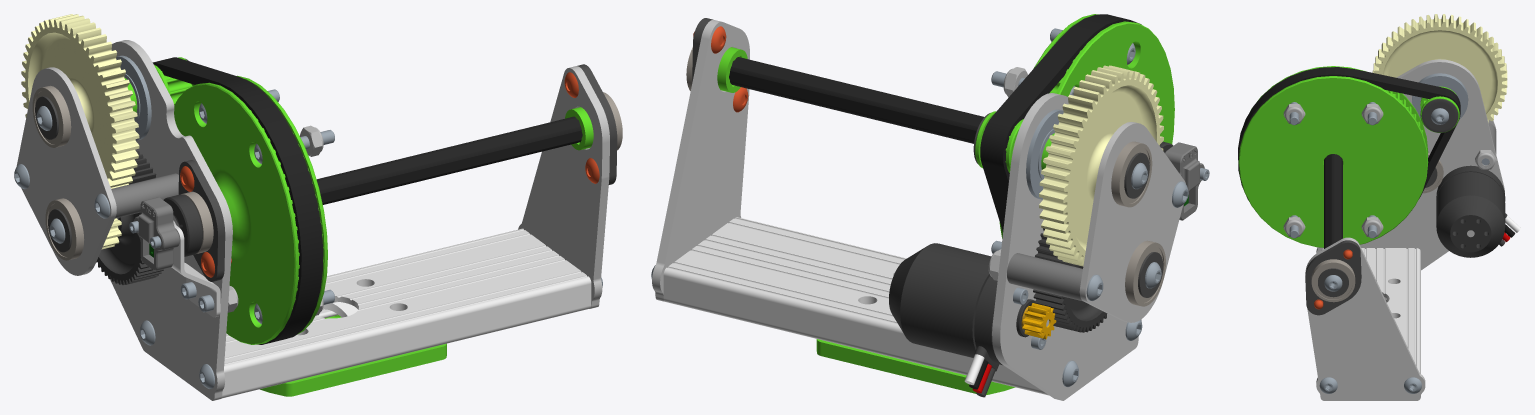
3 renders of one model, left to right at view 1: azimuth 30°, elevation 25°; view 2: azimuth 150°, elevation 25°; view 3: azimuth 270°, elevation 25°, orthographic. The views are drawn at different scales.
Parts seen in each view (by area): view 1: 321-2 Wrist 2 Baseplate Crossbar, 330 Wrist 2 Driven Pulley, 322 Wrist 2 Gearbox Plate, 326 Wrist 2 Pivot Support Plate, 52T Pocketed Aluminum Spur Gear (20 DP, 1/2" Hex Bore) (WCP-, 323 Wrist 2 Gearbox Cover Plate, 65 Tooth x 9mm HTD5 Belt, 329 Wrist 2 Thunderhex Shaft (7.105"), .375 ThunderHex ID .875 OD Flanged Bearing (217-5829) (×3), WCP-0487 Rev1 (×2), 321-1 Wrist 2 Baseplate Spacer, 60t 32dp Steel 3/8" Hex Bore Gear (217-5867) (+8 smaller); view 2: 321-2 Wrist 2 Baseplate Crossbar, 326 Wrist 2 Pivot Support Plate, 322 Wrist 2 Gearbox Plate, 52T Pocketed Aluminum Spur Gear (20 DP, 1/2" Hex Bore) (WCP-, NEO 550 Brushless Motor, 323 Wrist 2 Gearbox Cover Plate, 329 Wrist 2 Thunderhex Shaft (7.105"), 65 Tooth x 9mm HTD5 Belt, 330 Wrist 2 Driven Pulley, 321-1 Wrist 2 Baseplate Spacer, .375 ThunderHex ID .875 OD Flanged Bearing (217-5829) (×2), 324-0 Wrist 2 Gearbox PP Spacer (+7 smaller); view 3: 330 Wrist 2 Driven Pulley, 326 Wrist 2 Pivot Support Plate, 322 Wrist 2 Gearbox Plate, 52T Pocketed Aluminum Spur Gear (20 DP, 1/2" Hex Bore) (WCP-, NEO 550 Brushless Motor, 321-2 Wrist 2 Baseplate Crossbar, 65 Tooth x 9mm HTD5 Belt, 329 Wrist 2 Thunderhex Shaft (7.105"), WCP-0487 Rev1, .375 ThunderHex ID .875 OD Flanged Bearing (217-5829) (×2), .375" Hex ID 1.125" OD Flanged Bearing (217-2735), 10-32 Thin Jam Nut (WCP-0326) (×3) (+3 smaller).
Part boxes in pixels (x1,y1,x2,y2): 321-2 Wrist 2 Baseplate Crossbar: (221, 228, 591, 398); 330 Wrist 2 Driven Pulley: (174, 75, 327, 344); 322 Wrist 2 Gearbox Plate: (110, 40, 232, 400); 326 Wrist 2 Pivot Support Plate: (518, 66, 609, 308); 52T Pocketed Aluminum Spur Gear (20 DP, 1/2" Hex Bore) (WCP-: (21, 14, 139, 188); 323 Wrist 2 Gearbox Cover Plate: (16, 67, 116, 275); 65 Tooth x 9mm HTD5 Belt: (152, 57, 323, 344); 329 Wrist 2 Thunderhex Shaft (7.105"): (173, 116, 582, 227); .375 ThunderHex ID .875 OD Flanged Bearing (217-5829) (×3): (32, 85, 213, 260); WCP-0487 Rev1 (×2): (178, 64, 617, 281); 321-1 Wrist 2 Baseplate Spacer: (260, 315, 446, 396); 60t 32dp Steel 3/8" Hex Bore Gear (217-5867): (96, 149, 163, 284); 321-2 Wrist 2 Baseplate Crossbar: (663, 217, 1048, 395); 326 Wrist 2 Pivot Support Plate: (652, 19, 749, 301); 322 Wrist 2 Gearbox Plate: (992, 93, 1141, 400); 52T Pocketed Aluminum Spur Gear (20 DP, 1/2" Hex Bore) (WCP-: (1039, 65, 1163, 266); NEO 550 Brushless Motor: (889, 243, 1049, 397); 323 Wrist 2 Gearbox Cover Plate: (1079, 122, 1185, 322); 329 Wrist 2 Thunderhex Shaft (7.105"): (729, 57, 984, 143); 65 Tooth x 9mm HTD5 Belt: (980, 14, 1141, 231); 330 Wrist 2 Driven Pulley: (999, 14, 1174, 238); 321-1 Wrist 2 Baseplate Spacer: (816, 339, 1015, 394); .375 ThunderHex ID .875 OD Flanged Bearing (217-5829) (×2): (1111, 141, 1165, 306); 324-0 Wrist 2 Gearbox PP Spacer: (1007, 253, 1082, 301); 330 Wrist 2 Driven Pulley: (1238, 66, 1428, 247); 326 Wrist 2 Pivot Support Plate: (1305, 237, 1425, 400); 322 Wrist 2 Gearbox Plate: (1316, 59, 1504, 270); 52T Pocketed Aluminum Spur Gear (20 DP, 1/2" Hex Bore) (WCP-: (1372, 14, 1507, 122); NEO 550 Brushless Motor: (1436, 165, 1520, 257); 321-2 Wrist 2 Baseplate Crossbar: (1321, 248, 1420, 373); 65 Tooth x 9mm HTD5 Belt: (1238, 67, 1460, 200); 329 Wrist 2 Thunderhex Shaft (7.105"): (1324, 154, 1342, 248); WCP-0487 Rev1: (1305, 240, 1361, 315); .375 ThunderHex ID .875 OD Flanged Bearing (217-5829) (×2): (1311, 153, 1443, 302); .375" Hex ID 1.125" OD Flanged Bearing (217-2735): (1412, 73, 1468, 119); 10-32 Thin Jam Nut (WCP-0326) (×3): (1283, 150, 1496, 236).
Bounding box in the file's own units: 0.2078 × 0.136 × 0.1439.
